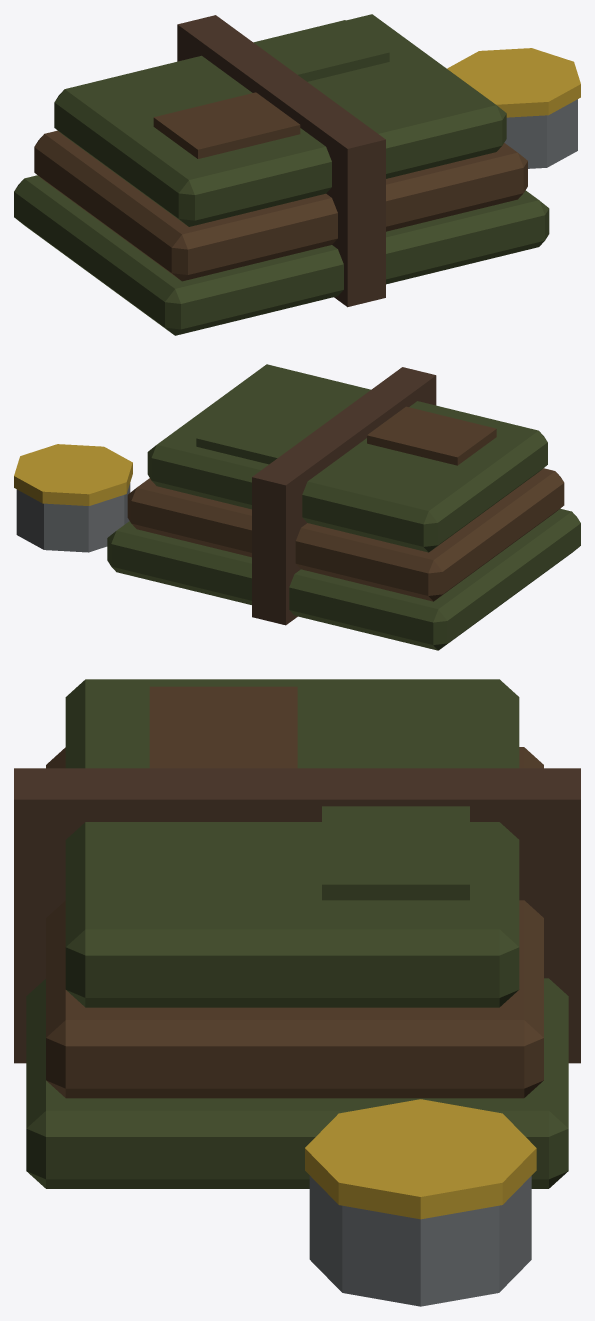
The model's file is mod_cloth_waterproof.glb.
The picture shows the model from 3 angles, top to bottom: view 1: azimuth 30°, elevation 25°; view 2: azimuth 150°, elevation 25°; view 3: azimuth 270°, elevation 25°; orthographic projection. The views are drawn at different scales.
Parts seen in each view (by area): view 1: waterproof; view 2: waterproof; view 3: waterproof.
Part boxes in pixels (x1,y1,x2,y2): waterproof: (14,14,580,335); waterproof: (14,364,580,650); waterproof: (14,679,580,1306).
Size of the model in its own units: 0.407 by 0.118 by 0.23.
